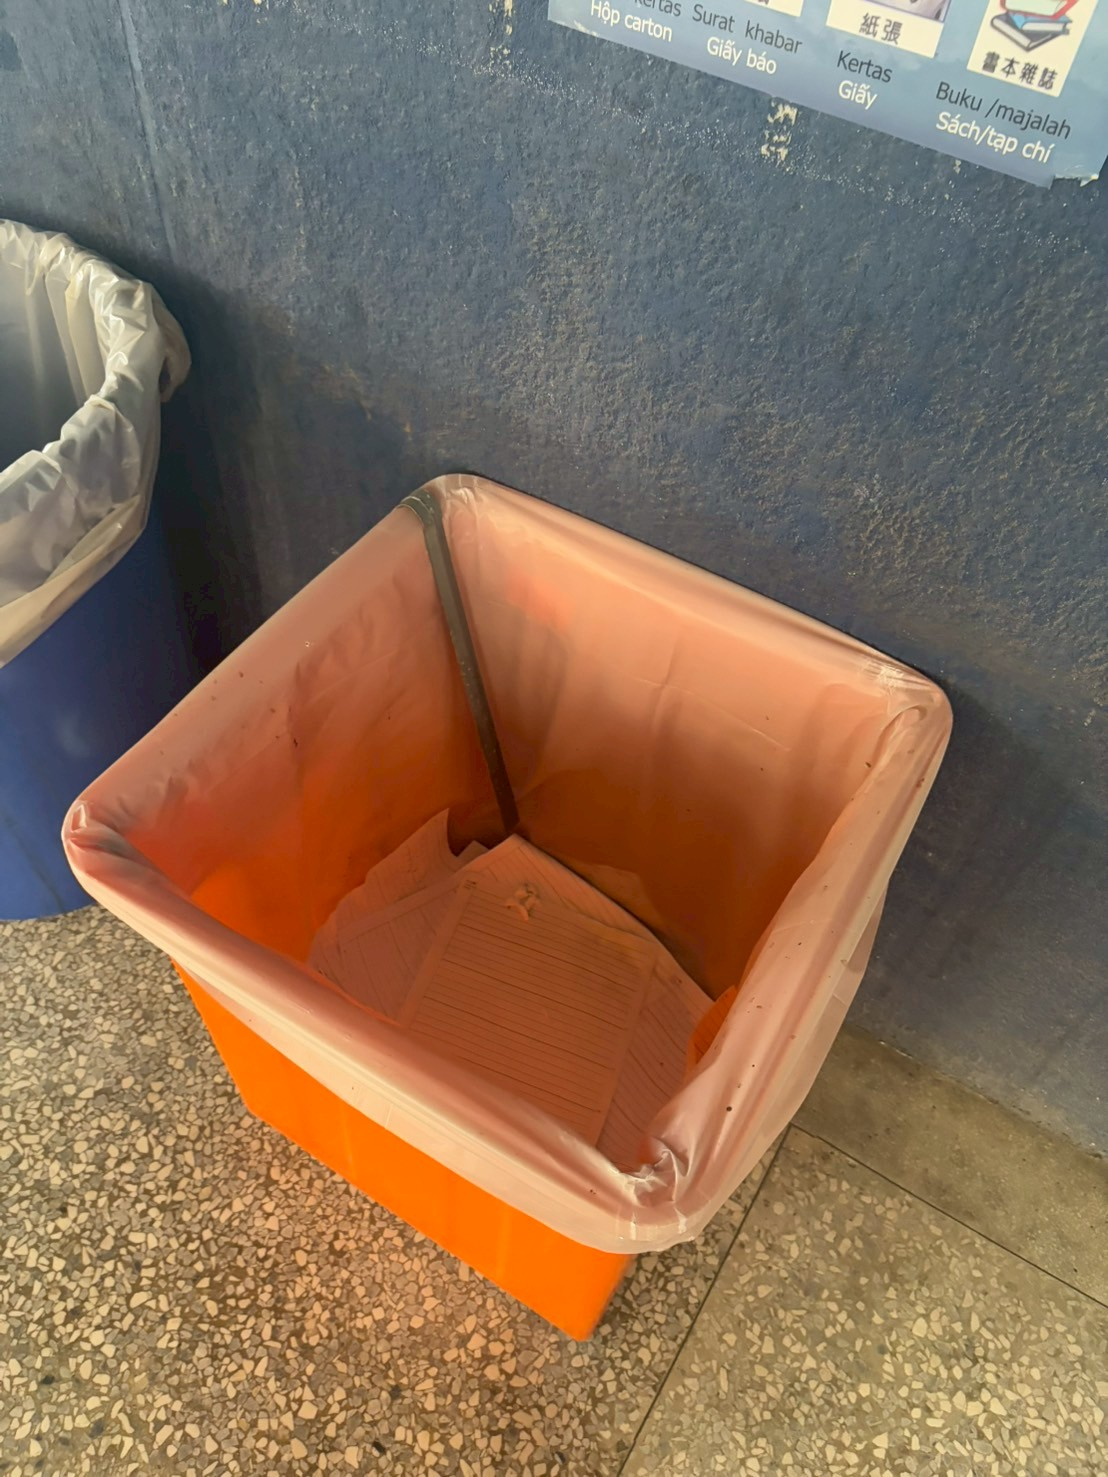normal_bin: (49, 441, 1000, 1363)
